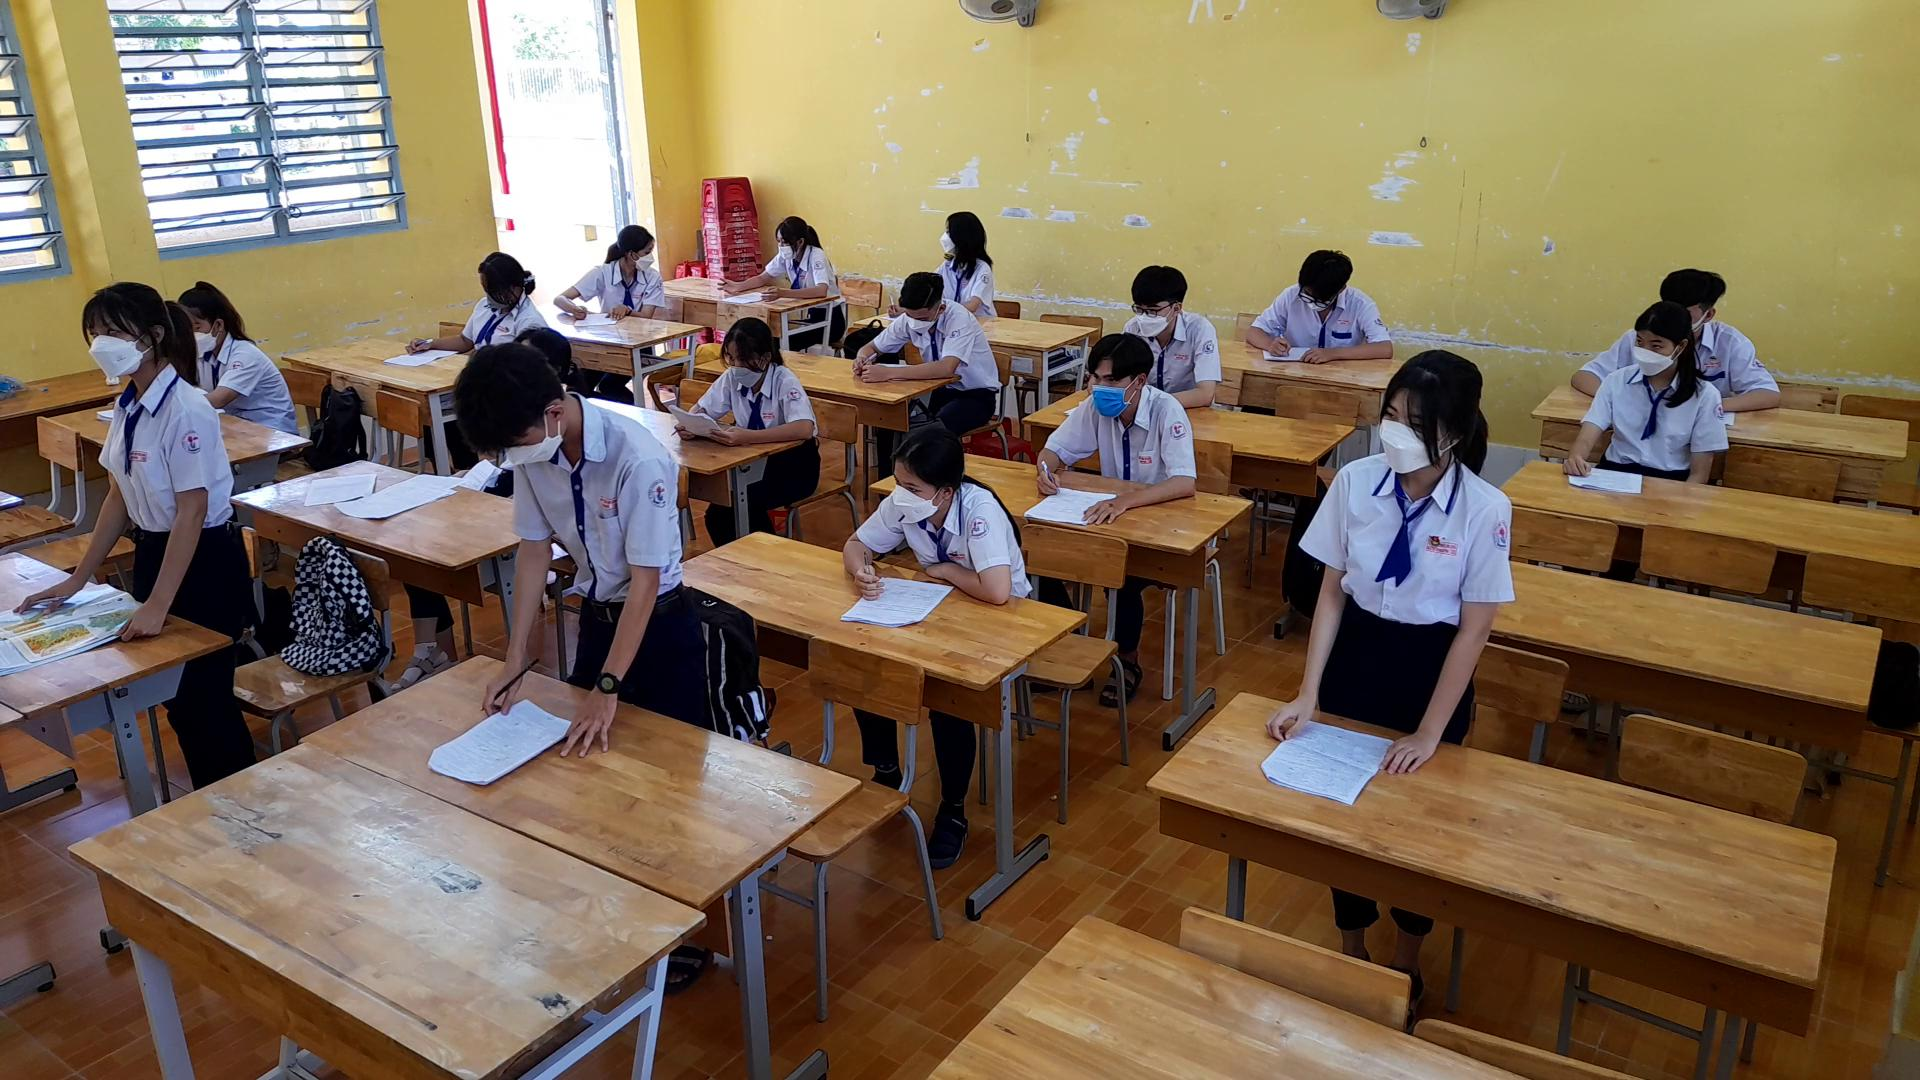Hand Under Table: (1684, 375, 1724, 491)
Look Around: (597, 212, 669, 284)
Normal: (836, 415, 1014, 609), (1023, 332, 1201, 524), (1237, 233, 1395, 371), (680, 311, 824, 458), (836, 262, 986, 393), (713, 206, 848, 313)
Stand Up: (1265, 342, 1516, 777), (443, 334, 692, 757), (15, 280, 248, 650)
